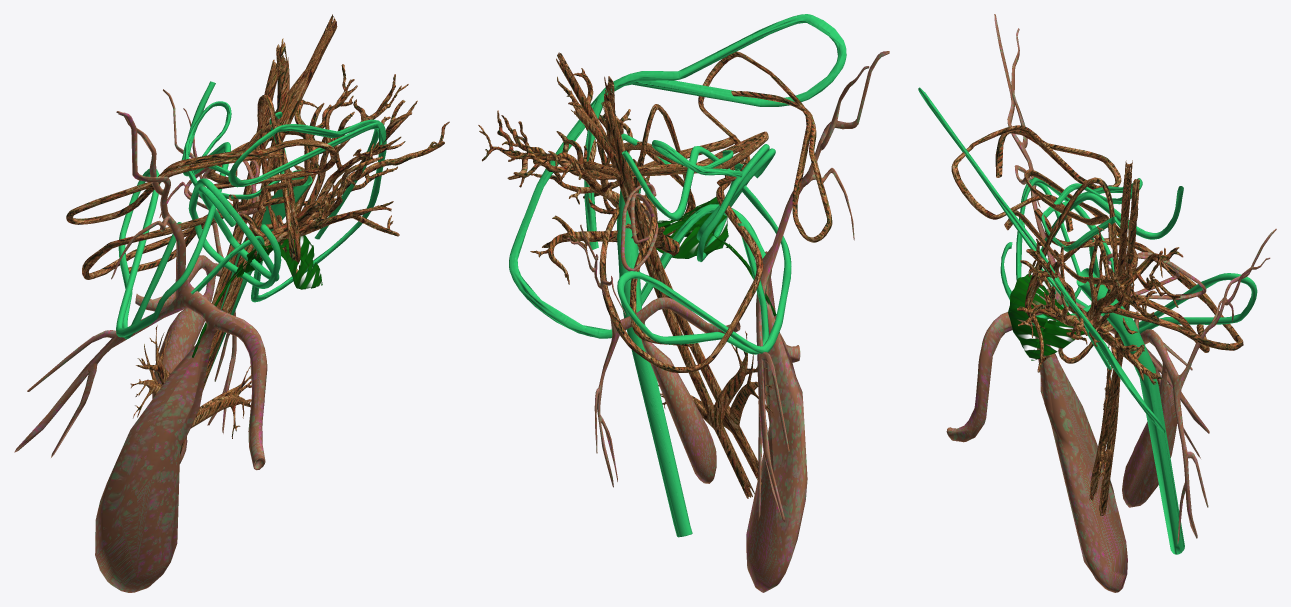
The model's file is worldtreeonevines.glb.
3 renders of one model, left to right at view 1: azimuth 30°, elevation 25°; view 2: azimuth 150°, elevation 25°; view 3: azimuth 270°, elevation 25°, orthographic. The views are drawn at different scales.
Parts seen in each view (by area): view 1: coral.004; view 2: coral.004; view 3: coral.004.
Boxes of the visible parts, x1=… form: coral.004: x1=14, y1=14, x2=449, y2=592; coral.004: x1=478, y1=14, x2=889, y2=592; coral.004: x1=918, y1=14, x2=1276, y2=592.
Bounding box in the file's own units: 1.13 × 1.58 × 0.9488.
Materials: 6 (6 with a texture image).
